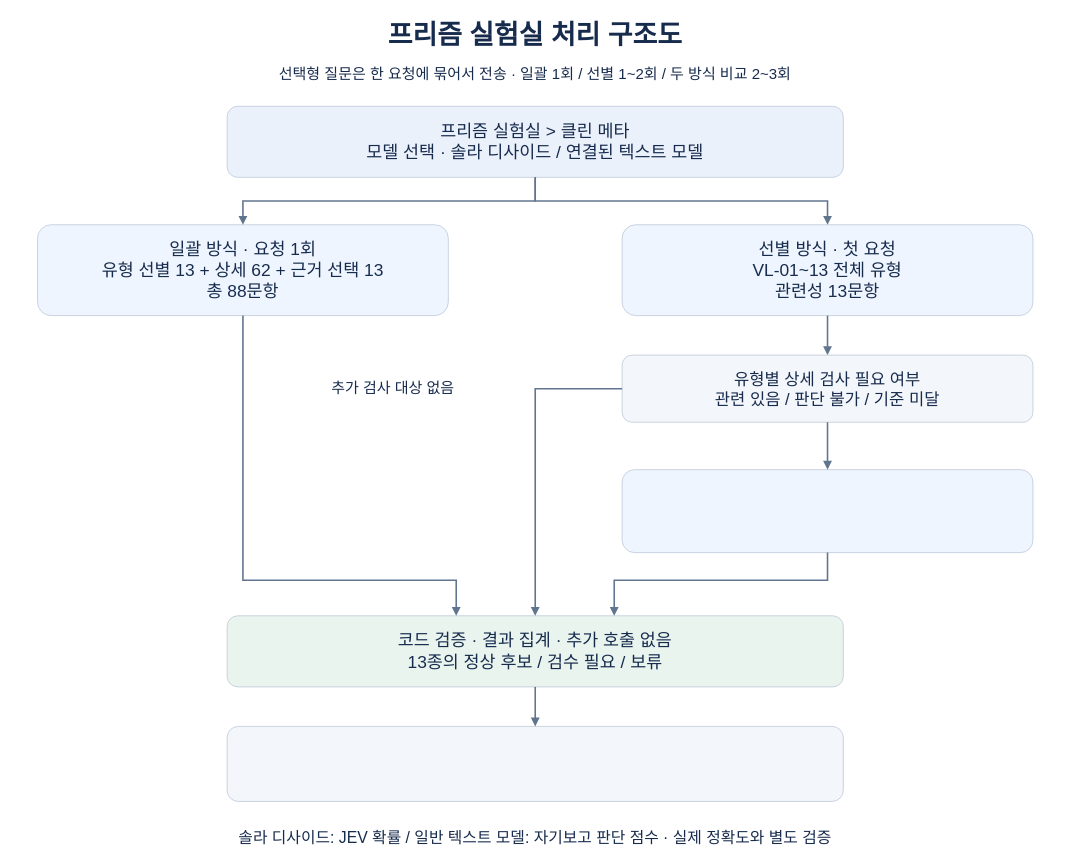
This 1070x866 diagram has some shape labels left out. Here are the shapes that lost their labels. From the top down, the centre of each, then its label:
At point 827,511: "필요 유형 존재 → 두 번째 요청 해당 유형의 상세 + 근거 선택 질문 유형당 5~8문항 · 전체 선택 시 75문항".
At point 534,763: "결과 화면 + JSON 다운로드 모델 / 요청·문항 수 / 토큰 / 시간 / 근거 후보".
